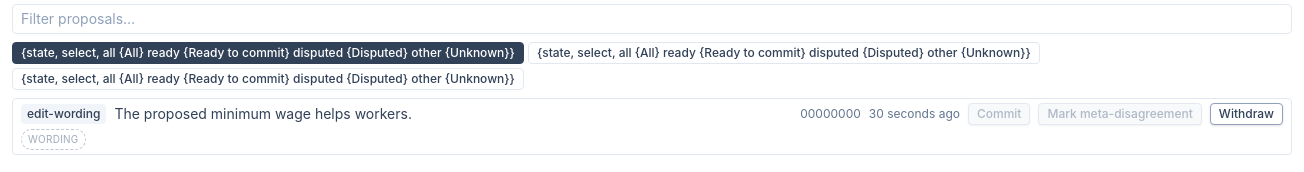
Test: PendingProposalsPane — filter strip › (f) the filtered-empty paragraph appears when the filter excludes every row; original empty is hidden
Check: the number of list items with test id "pending-proposal-row" is 1, box x1=12 y1=98 x2=1292 y2=155
Type "no-such-text-anywhere" into the search field with test id "pending-proposals-filter-text". click: (652, 19)
box: x1=12 y1=4 x2=1292 y2=34
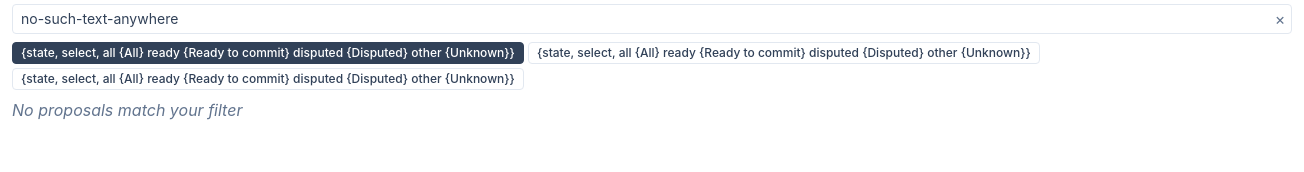
Check: the list item with test id "pending-proposal-row" is gone
Check: the text "No proposals match your filter" is shown, box x1=12 y1=100 x2=242 y2=120
